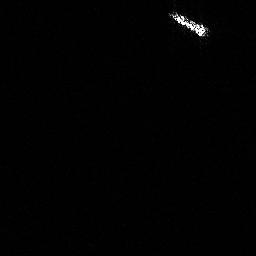ship: (167, 8, 211, 39)
